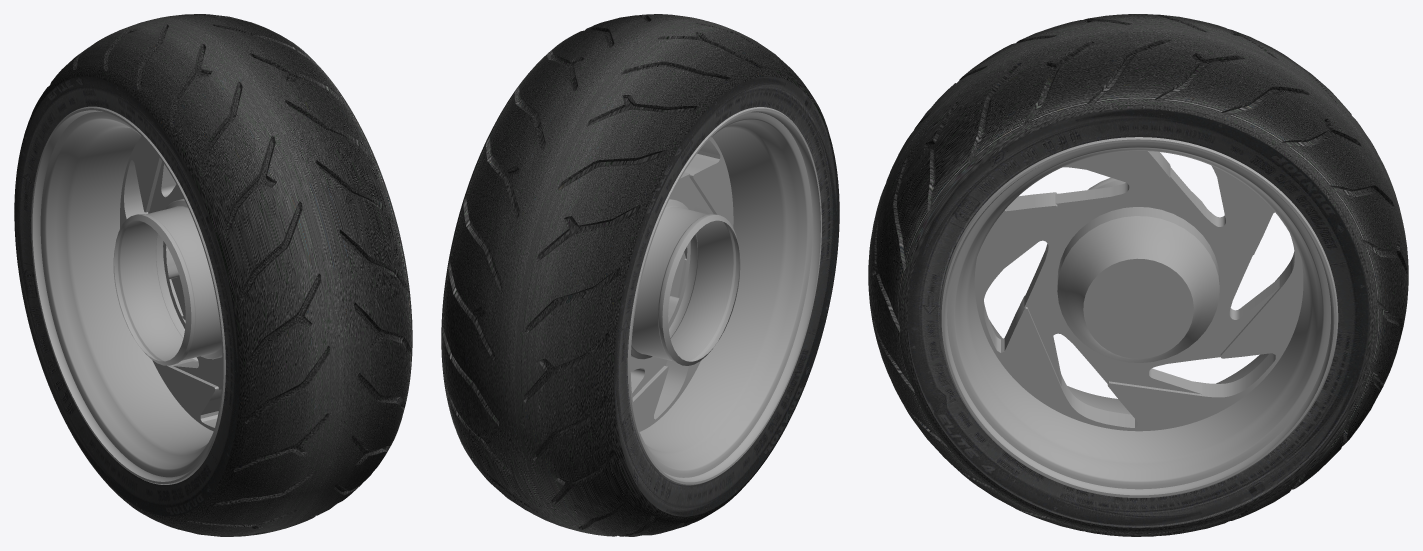
The model's file is WheelRear_STOCK.glb.
3 views of the same model, side by side, from view 1: azimuth 30°, elevation 25°; view 2: azimuth 150°, elevation 25°; view 3: azimuth 270°, elevation 25° (orthographic). The views are drawn at different scales.
Visible parts, largest first — view 1: TireSidewalls, RearRim_ALMN; view 2: TireSidewalls, RearRim_ALMN; view 3: TireSidewalls, RearRim_ALMN.
Part boxes in pixels (box(x1,y1,x2,y2)): TireSidewalls: box(14, 14, 412, 536); RearRim_ALMN: box(31, 106, 225, 484); TireSidewalls: box(441, 14, 839, 536); RearRim_ALMN: box(627, 107, 821, 485); TireSidewalls: box(868, 14, 1408, 536); RearRim_ALMN: box(940, 137, 1338, 497).
Bounding box in the file's own units: 0.2423 × 0.6419 × 0.6419.
Materials: 3 (2 with a texture image).
